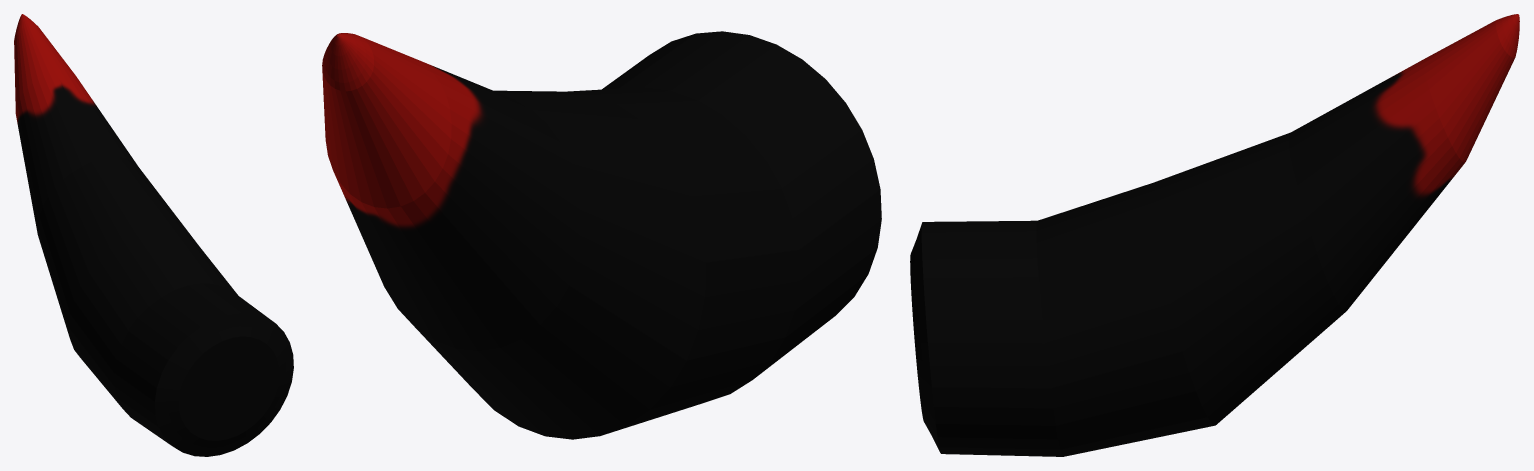
The model's file is Demoniczny_róg.fbx.
3 views of the same model, side by side, from view 1: azimuth 30°, elevation 25°; view 2: azimuth 150°, elevation 25°; view 3: azimuth 270°, elevation 25° (orthographic). The views are drawn at different scales.
Parts seen in each view (by area): view 1: Cylinder; view 2: Cylinder; view 3: Cylinder.
Boxes of the visible parts, x1=… form: Cylinder: x1=14, y1=14, x2=293, y2=456; Cylinder: x1=322, y1=31, x2=881, y2=439; Cylinder: x1=910, y1=14, x2=1519, y2=456.
Size of the model in its own units: 37.01 by 75.71 by 96.81.
Materials: 1 (1 with a texture image).
